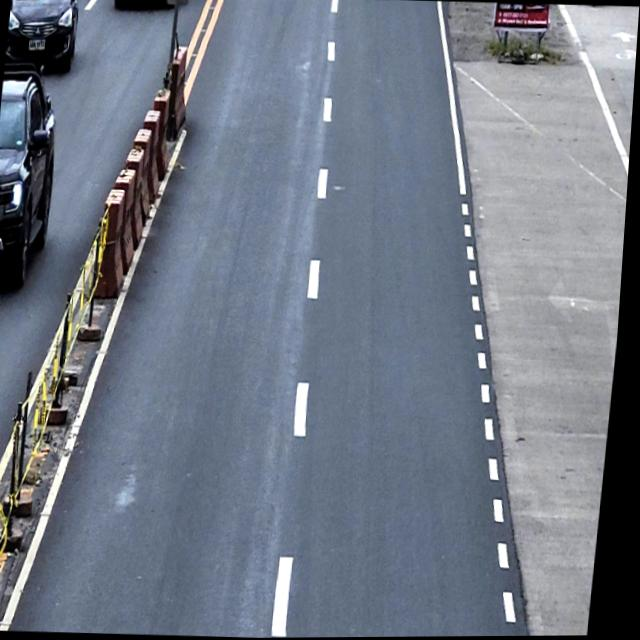Car: (0, 61, 66, 287), (4, 0, 82, 72)
License-Plate: (28, 35, 47, 51)
